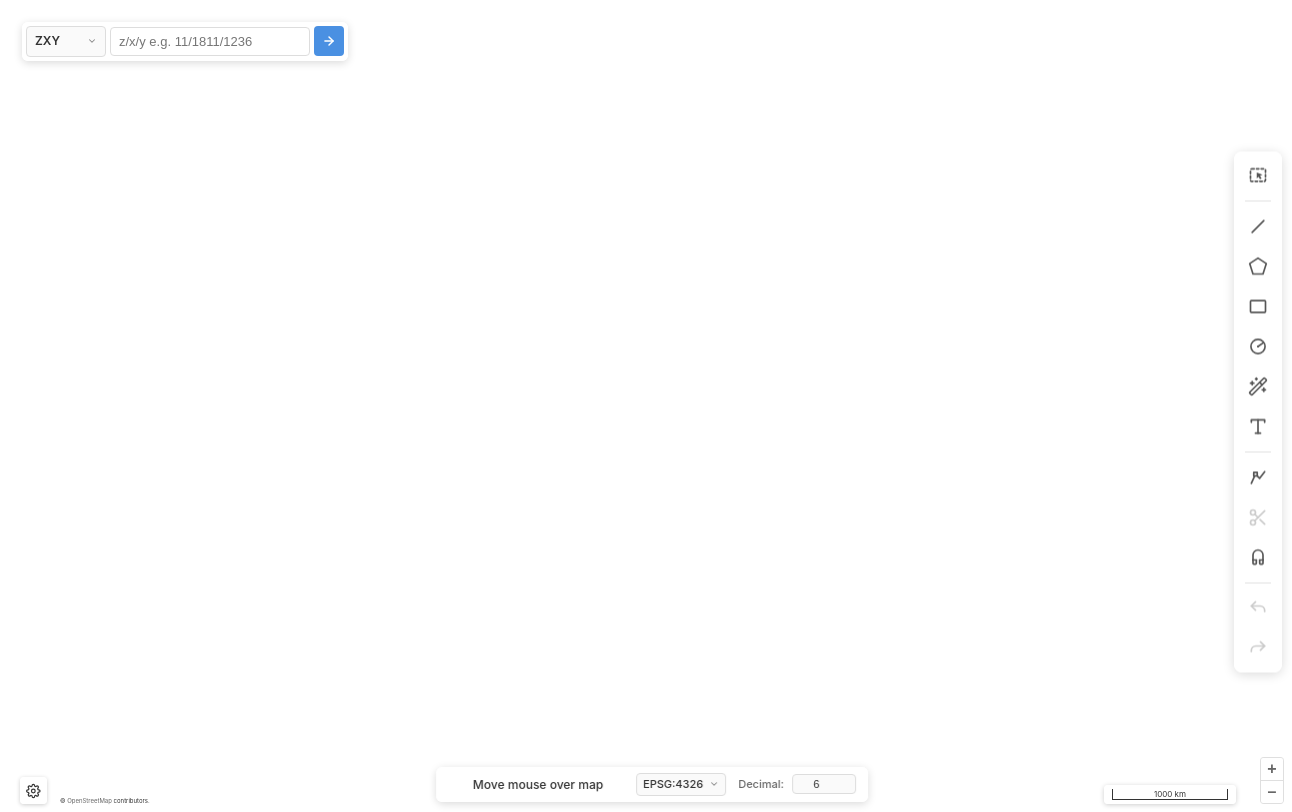
Test: segment click inserts a vertex between the endpoints
Click the button titled "Draw Line": (1258,226) [1240,208,1276,244]
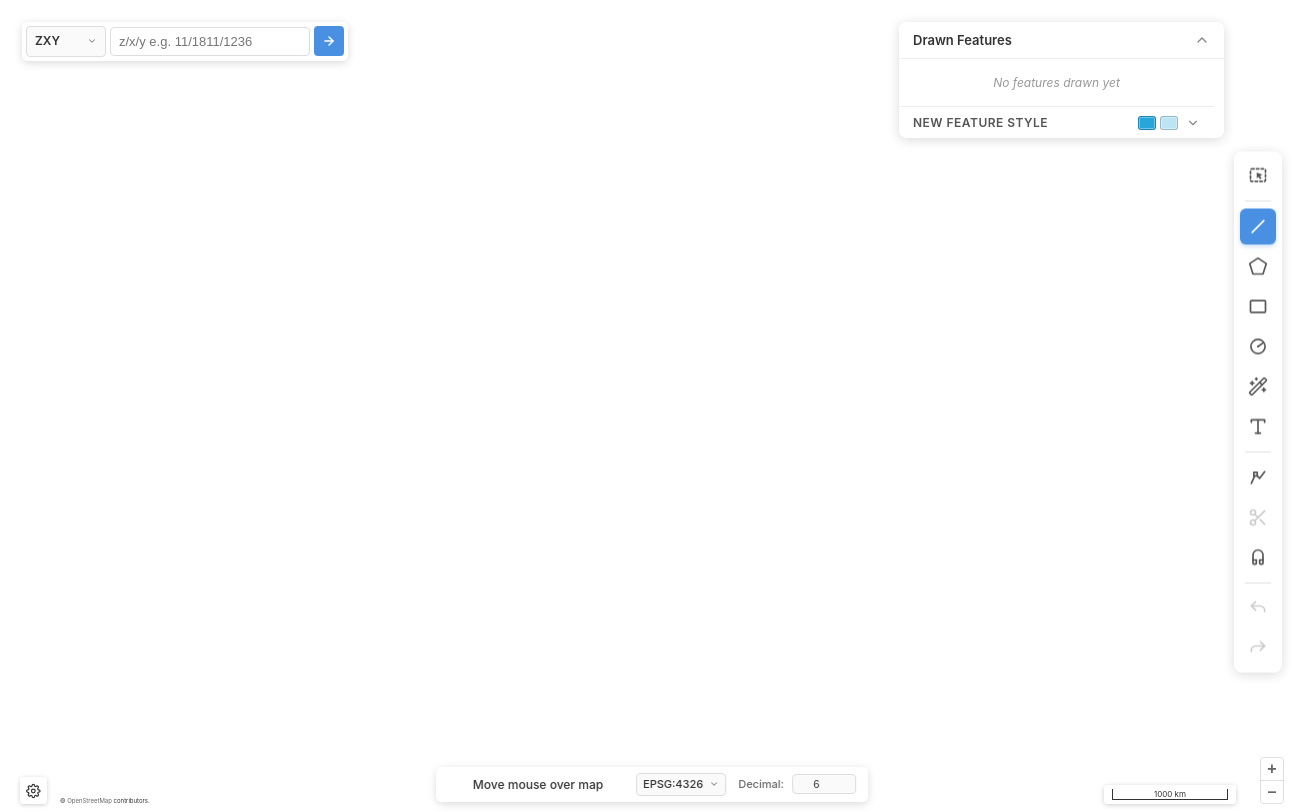
Press the mouse on the element with class "ol-viewport": (652,412) [12,12,1291,811]
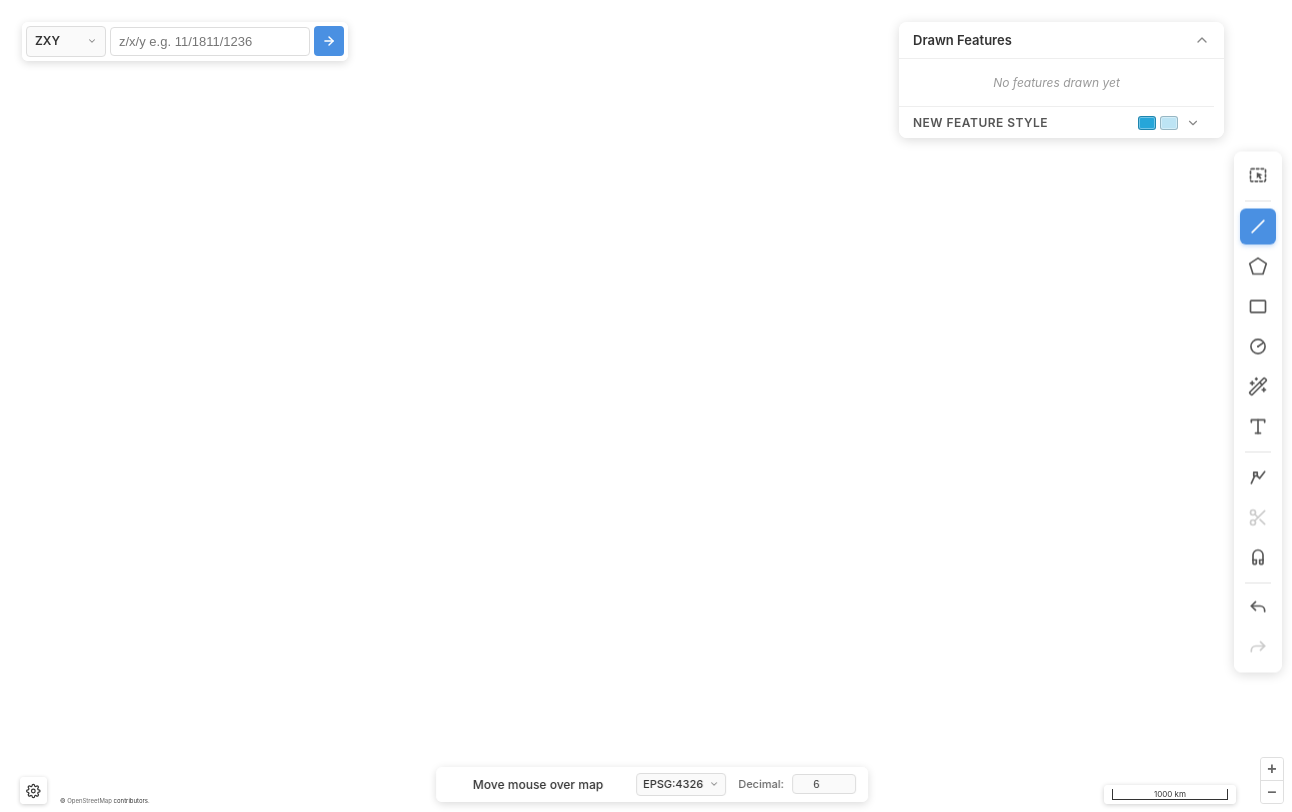
Press the mouse on the element with class "ol-viewport": (652,412) [12,12,1291,811]
Press the mouse on the element with class "ol-viewport": (652,412) [12,12,1291,811]
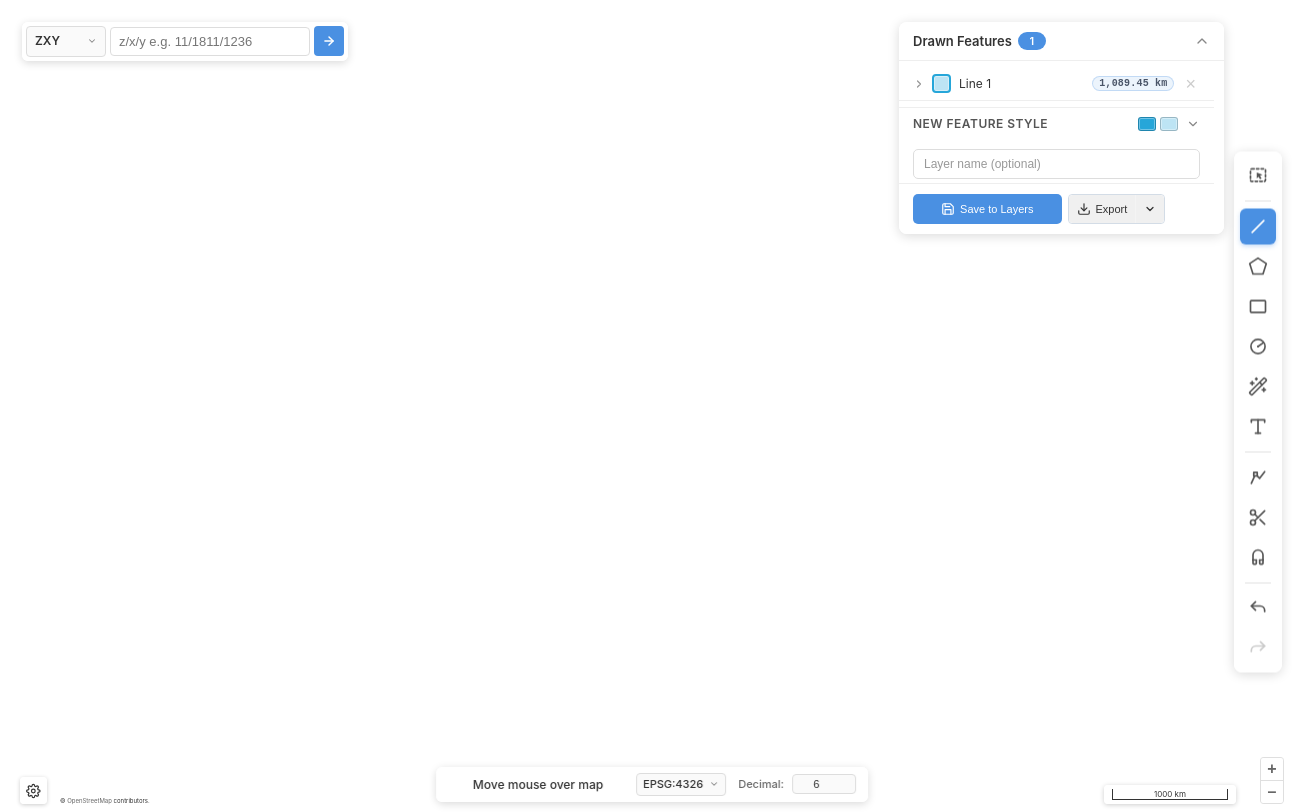
Click the button titled "Edit vertices — drag to reshape drawn features": (1258,478) [1240,460,1276,496]
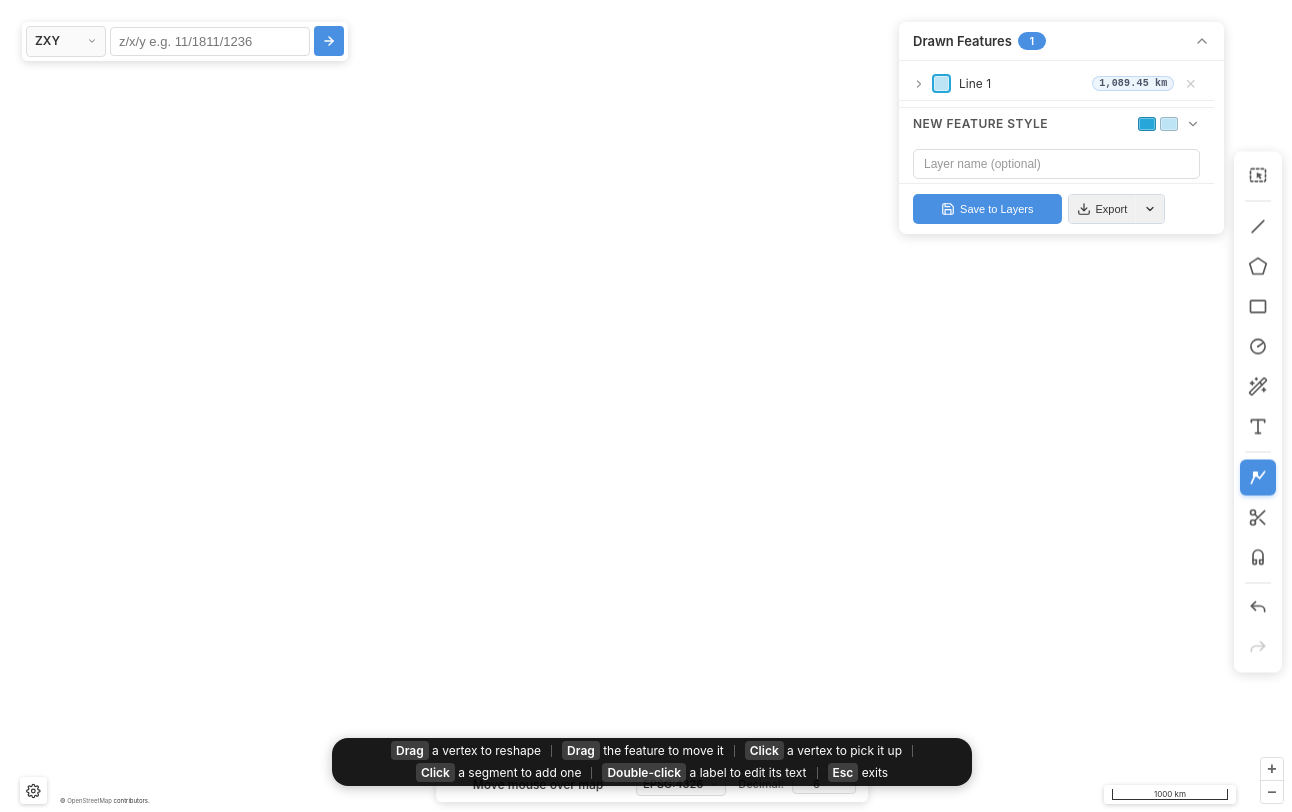
Press the mouse on the element with class "ol-viewport": (652,412) [12,12,1291,811]
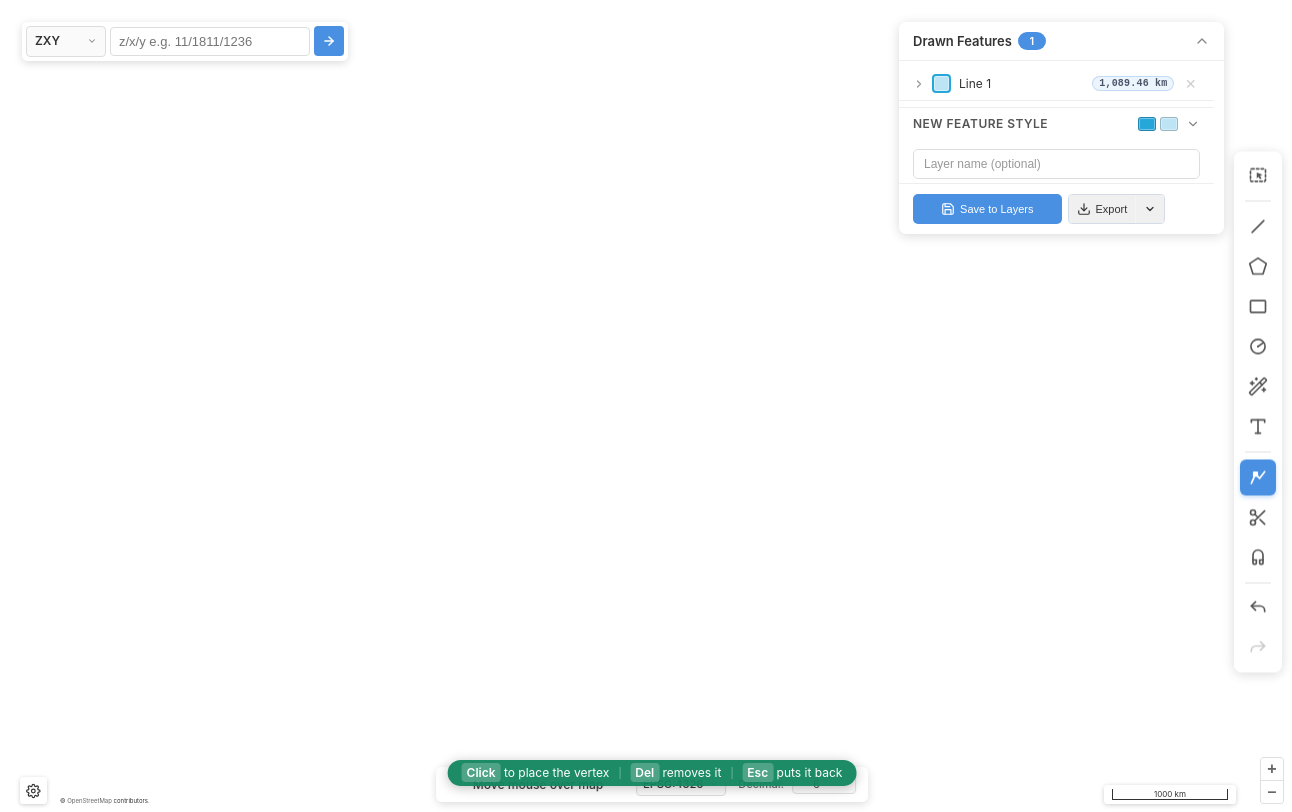
Now the message with class "draw-modify-hint" shows "Click to place the vertex", box [448,760,856,786]
Press the mouse on the element with class "ol-viewport": (652,412) [12,12,1291,811]
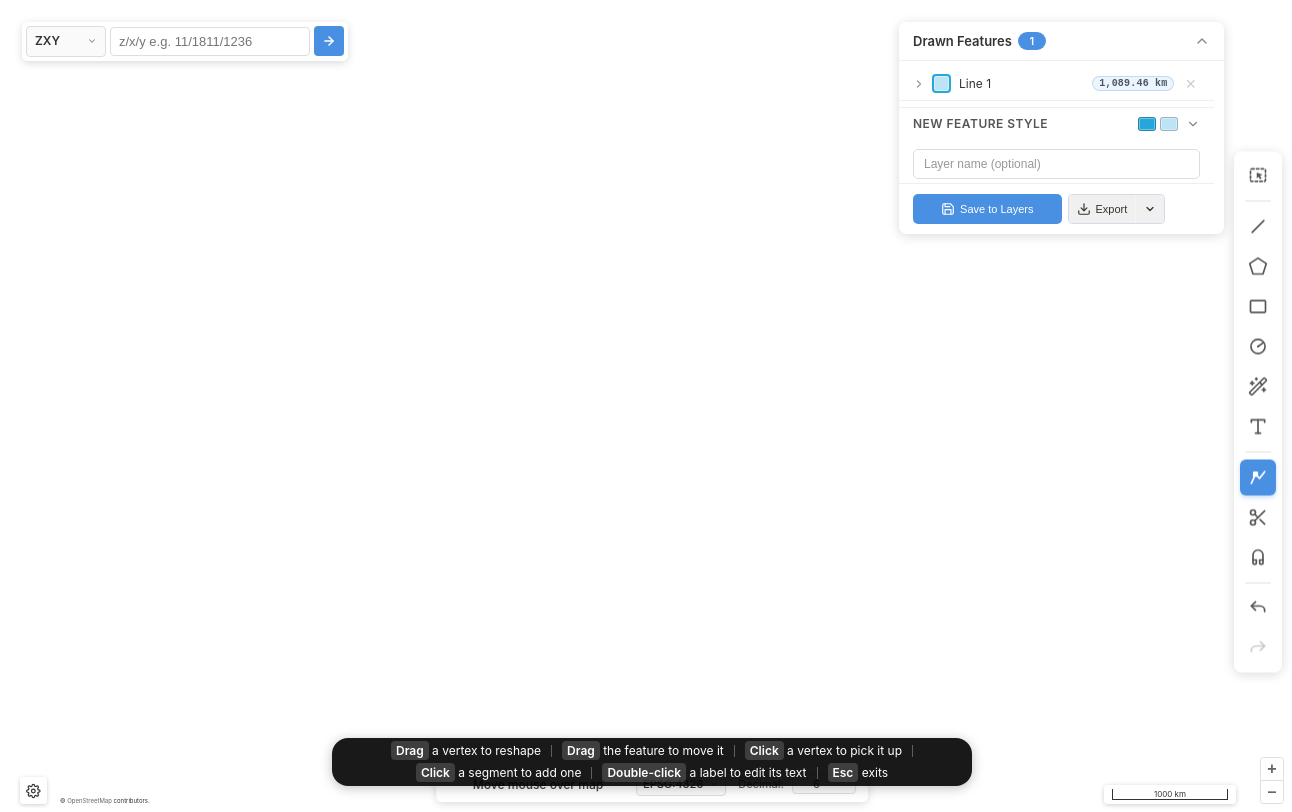
Now the element with class "draw-modify-hint" no longer shows "Click to place the vertex"
